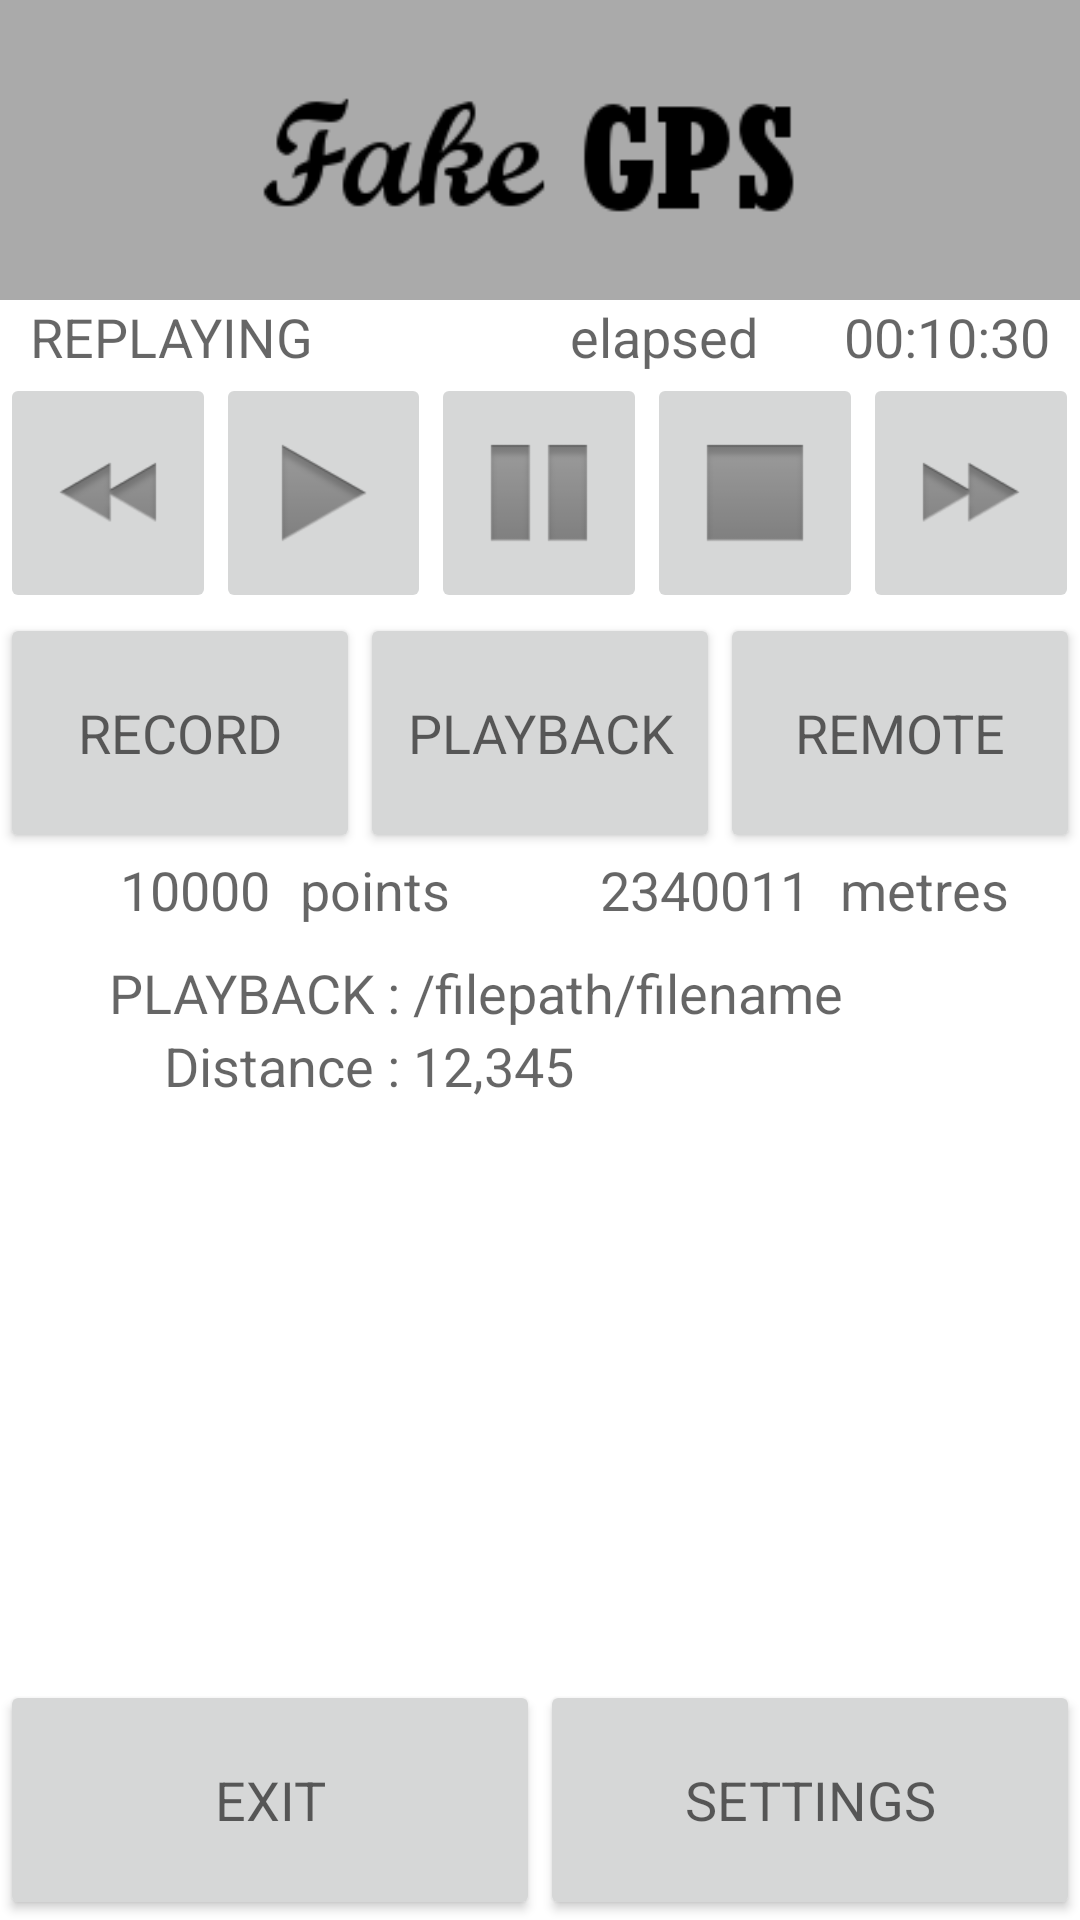

Icon bounding boxes for this 1080×1920 phone screenshot, format (x1, y1, x2, y2):
tran faster: (875, 391, 1067, 595)
tran pause: (443, 391, 635, 595)
tran slower: (12, 391, 204, 595)
tran start: (228, 391, 419, 595)
tran stop: (659, 391, 851, 595)
